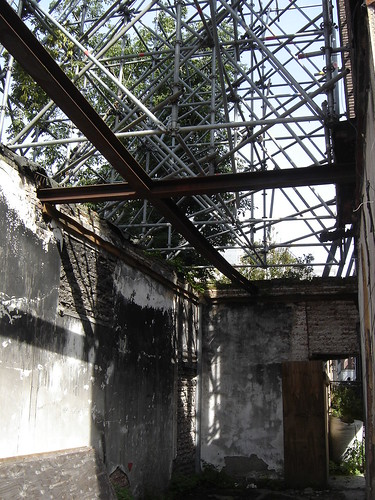wall: (1, 179, 213, 500), (206, 260, 375, 500)
